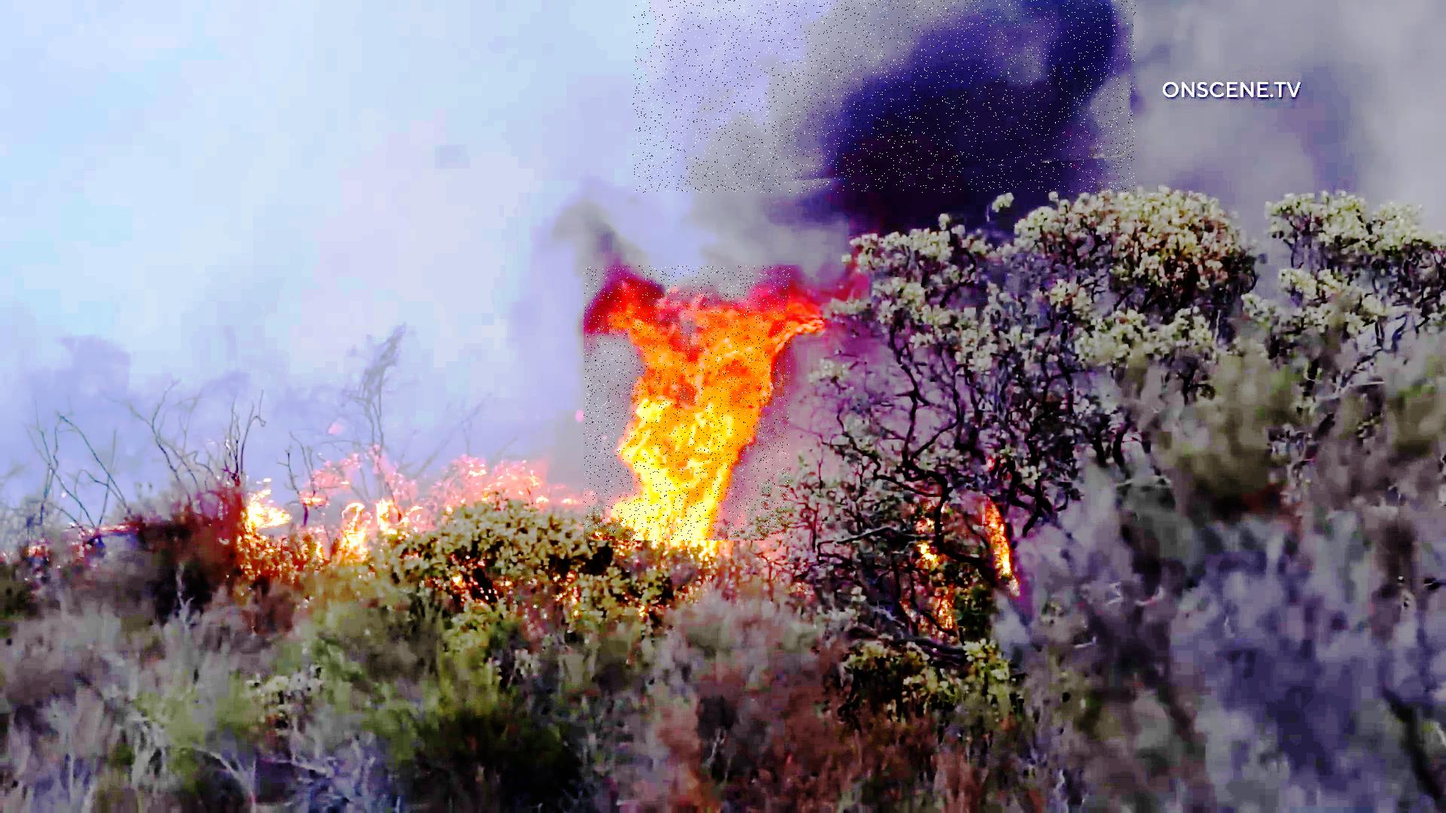fire: (584, 266, 790, 541)
smoke: (633, 0, 1136, 193)
